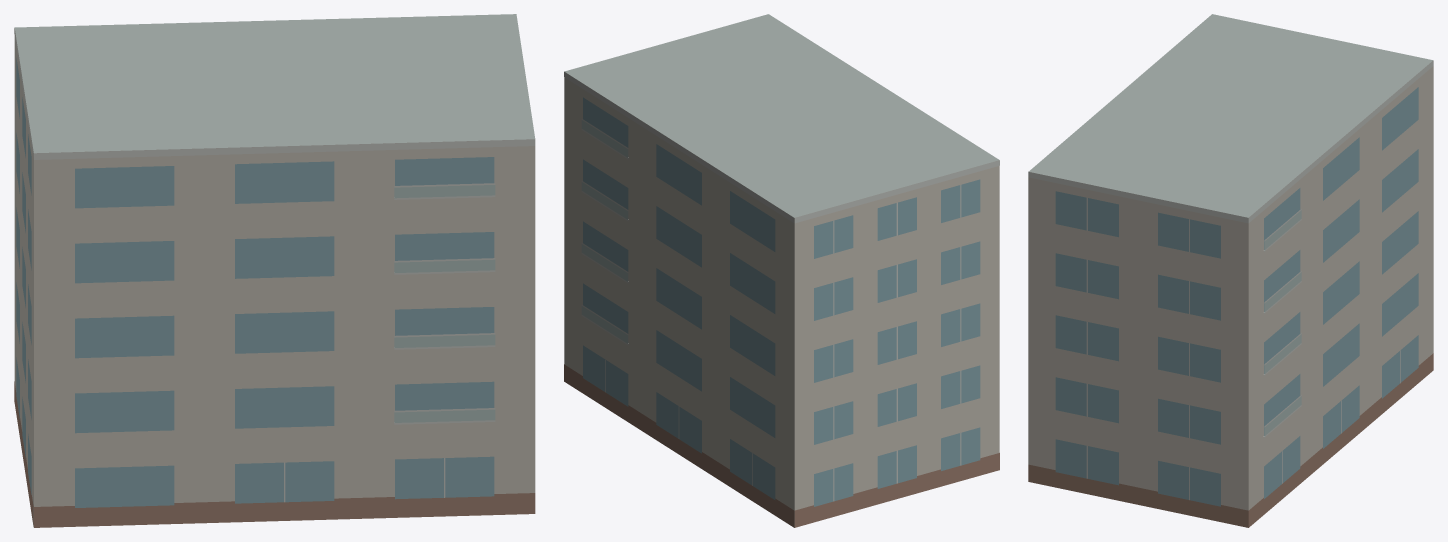
File: survey-upis-32882528.glb
3 renders of one model, left to right at view 1: azimuth 30°, elevation 25°; view 2: azimuth 150°, elevation 25°; view 3: azimuth 270°, elevation 25°, orthographic. The views are drawn at different scales.
Parts seen in each view (by area): view 1: survey-upis-32882528.tmp; view 2: survey-upis-32882528.tmp; view 3: survey-upis-32882528.tmp.
Boxes of the visible parts, x1,y1,x2,y2 form: survey-upis-32882528.tmp: [14, 14, 535, 527]; survey-upis-32882528.tmp: [564, 14, 999, 527]; survey-upis-32882528.tmp: [1028, 14, 1433, 527].
Size of the model in its own units: 19.04 by 13.5 by 15.99.
